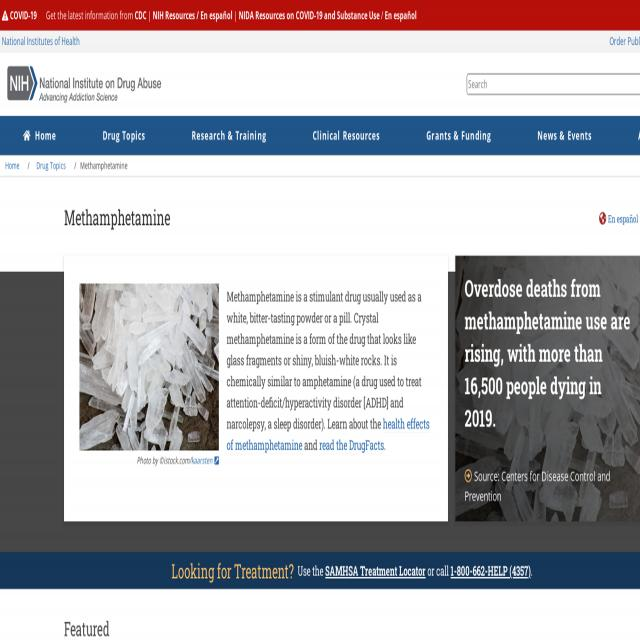button: (80, 284, 219, 450), (7, 66, 161, 102), (168, 116, 290, 156), (290, 116, 404, 156), (403, 116, 515, 156), (514, 116, 614, 154), (80, 116, 168, 156), (0, 116, 80, 156), (613, 114, 640, 154), (464, 469, 472, 482)
field: (467, 74, 640, 94)
